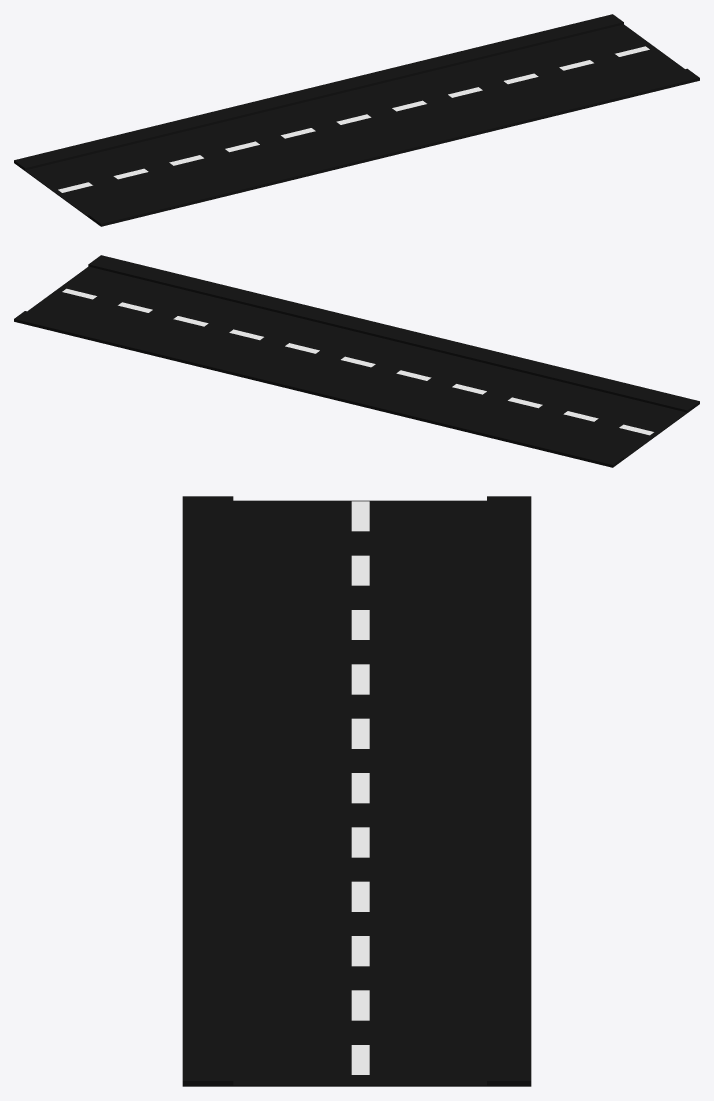
Rendered from asphalt.glb.
3 views of the same model, one above another, from view 1: azimuth 30°, elevation 25°; view 2: azimuth 150°, elevation 25°; view 3: azimuth 270°, elevation 25° (orthographic). The views are drawn at different scales.
Visible parts, largest first — view 1: Cube.001_2, Plane_3; view 2: Cube.001_2, Plane_3; view 3: Cube.001_2, Plane_3.
Boxes of the visible parts, <box> form: Cube.001_2: <box>14,14,699,226</box>; Plane_3: <box>58,46,649,192</box>; Cube.001_2: <box>14,255,699,467</box>; Plane_3: <box>62,288,653,435</box>; Cube.001_2: <box>182,496,531,1086</box>; Plane_3: <box>351,501,369,1074</box>.
Size of the model in its own units: 160 by 0.7294 by 40.44.
2 materials, 1 textured.
